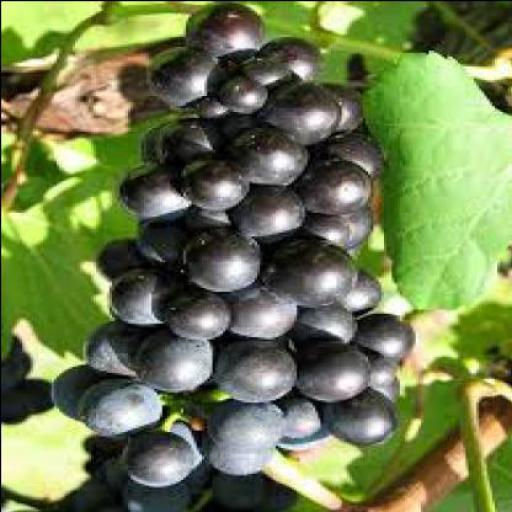biodegradable: (258, 243, 351, 308), (206, 340, 290, 406), (142, 45, 222, 109), (180, 229, 258, 293), (258, 85, 335, 149), (222, 130, 304, 190), (76, 380, 159, 438), (290, 344, 364, 406), (296, 156, 372, 216), (180, 4, 258, 61), (132, 334, 209, 390), (116, 431, 190, 488), (227, 189, 301, 245), (320, 390, 394, 446), (105, 270, 177, 324), (206, 403, 283, 452), (198, 427, 270, 479), (116, 168, 184, 223), (240, 42, 320, 88), (296, 137, 377, 182), (79, 328, 151, 377), (158, 291, 227, 342), (224, 289, 293, 340), (150, 121, 224, 168), (169, 167, 243, 212), (44, 369, 108, 421), (129, 225, 196, 271), (287, 306, 354, 352), (348, 314, 409, 364), (275, 391, 324, 453), (206, 470, 270, 511), (137, 121, 188, 166), (317, 85, 361, 137), (336, 269, 378, 318), (116, 482, 186, 511), (42, 484, 116, 510), (235, 57, 293, 89), (96, 239, 142, 279), (214, 81, 262, 117), (301, 216, 343, 253), (176, 207, 230, 232), (82, 455, 114, 494), (177, 97, 222, 121), (340, 212, 370, 248), (364, 358, 396, 390), (18, 384, 50, 416), (261, 480, 294, 511), (361, 374, 396, 403), (1, 354, 27, 392), (217, 118, 256, 143), (76, 435, 114, 459), (1, 391, 27, 426), (182, 460, 203, 496), (2, 338, 18, 360)
